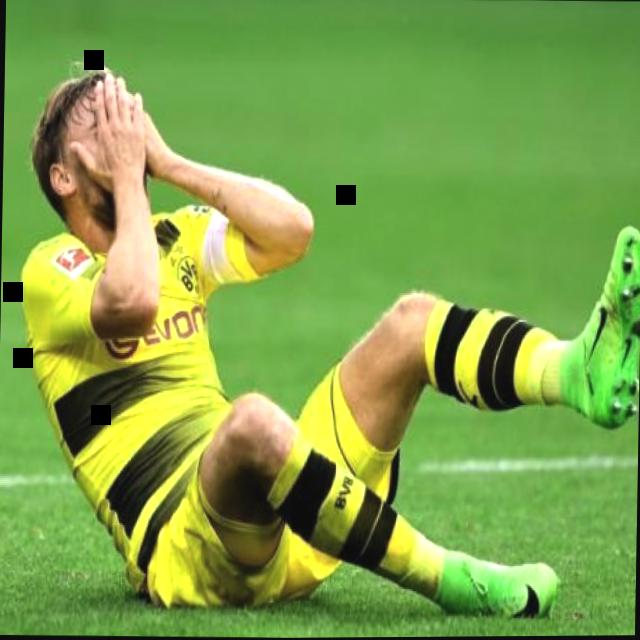Fall-Detected: (0, 27, 640, 640)
